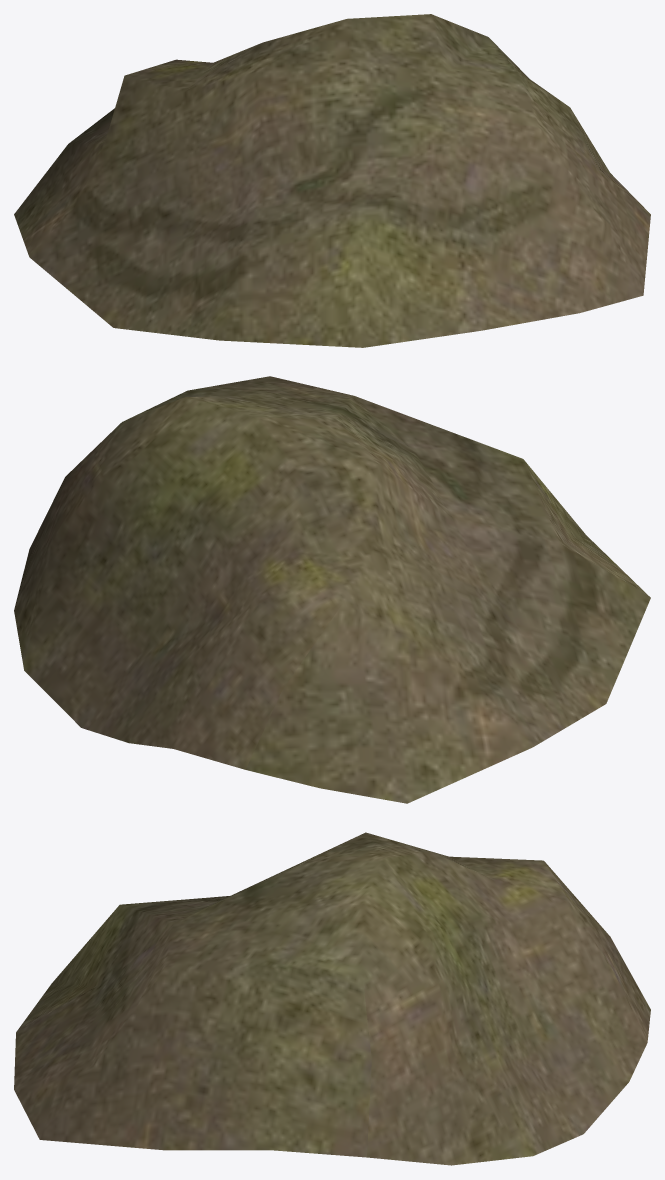
File: Ruins_TerrainPile_C-transformed.glb
The picture shows the model from 3 angles, top to bottom: view 1: azimuth 30°, elevation 25°; view 2: azimuth 150°, elevation 25°; view 3: azimuth 270°, elevation 25°; orthographic projection. The views are drawn at different scales.
Parts seen in each view (by area): view 1: default; view 2: default; view 3: default.
Boxes of the visible parts, bbox=[...] form: default: bbox=[14, 14, 650, 347]; default: bbox=[14, 376, 650, 803]; default: bbox=[14, 832, 650, 1165].
Bounding box in the file's own units: 1.98 × 0.8572 × 2.05.
1 material, 1 textured.
